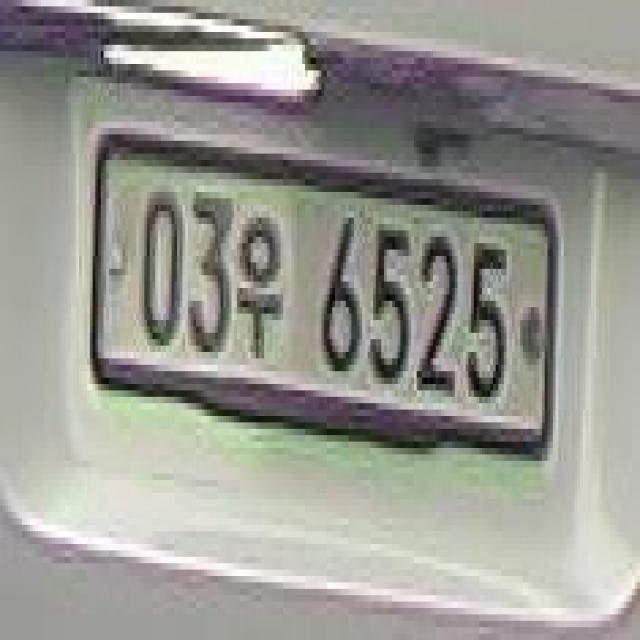illegal_plate: (88, 135, 560, 488)
